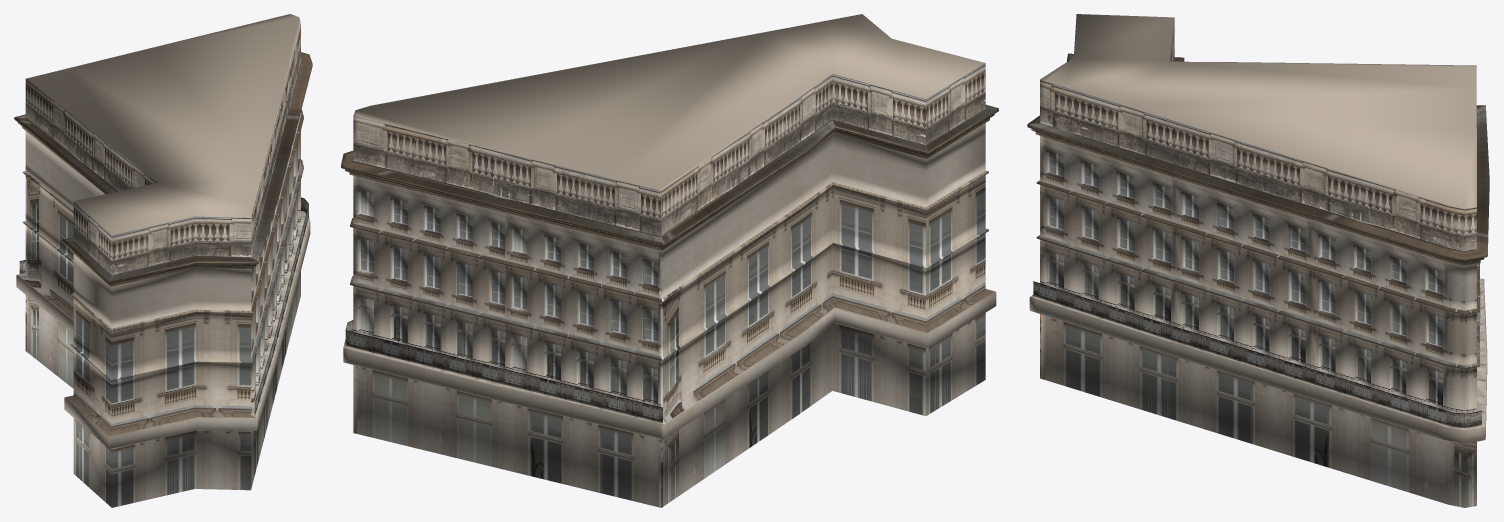
Rendered from building4.glb.
3 views of the same model, side by side, from view 1: azimuth 30°, elevation 25°; view 2: azimuth 150°, elevation 25°; view 3: azimuth 270°, elevation 25° (orthographic). The views are drawn at different scales.
Parts seen in each view (by area): view 1: building6; view 2: building6; view 3: building6.
Boxes of the visible parts, left/top/right/bottom form: building6: left=14, top=14, right=312, bottom=507; building6: left=341, top=14, right=998, bottom=507; building6: left=1027, top=14, right=1489, bottom=507.
Size of the model in its own units: 32.65 by 22.22 by 31.17.
Materials: 1 (1 with a texture image).
